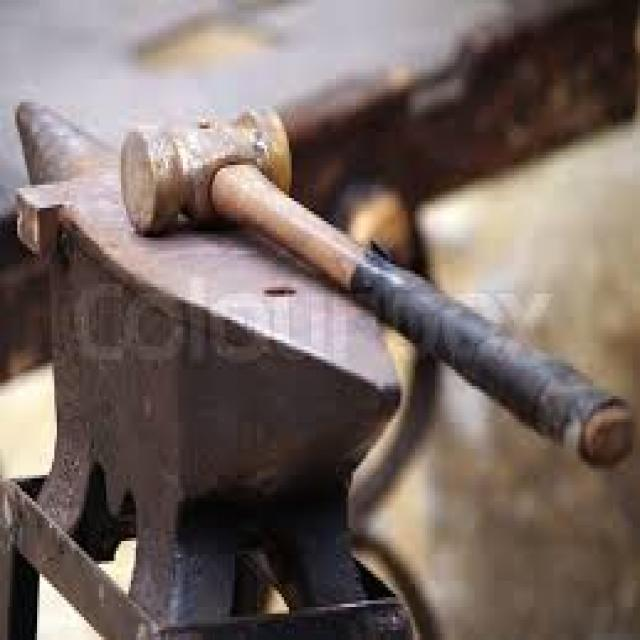hammer: (117, 94, 639, 470)
